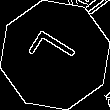L_SE: (26, 29, 84, 81)
